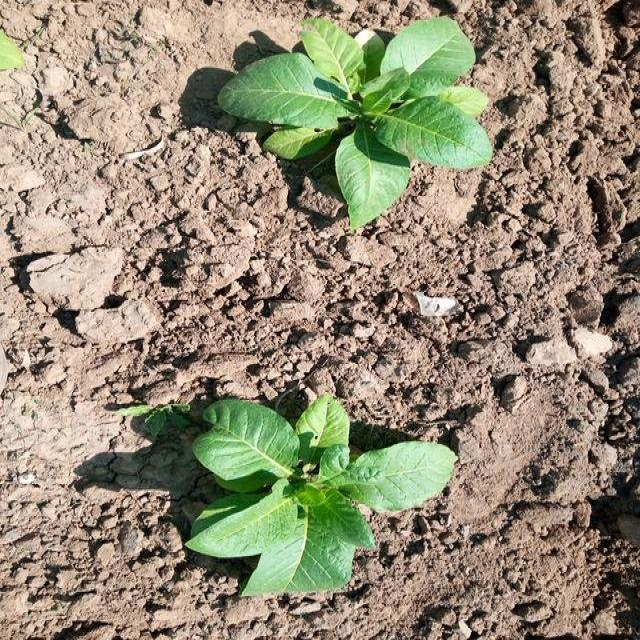crop: (187, 393, 448, 608), (232, 19, 494, 215)
